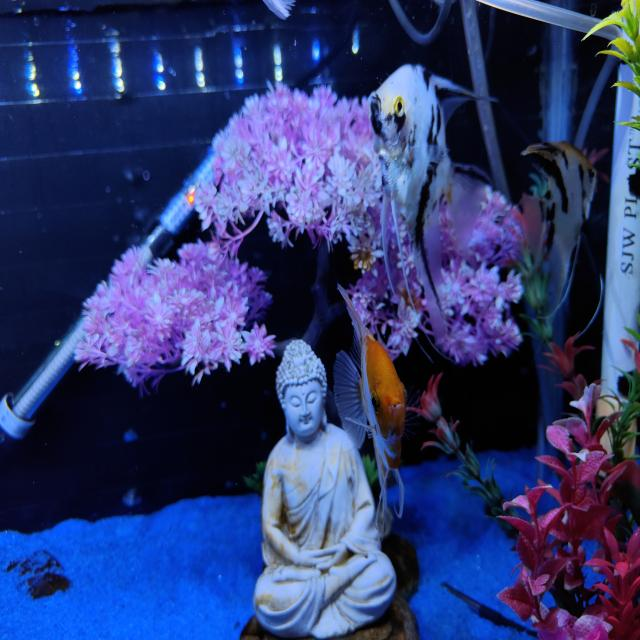Fish: (369, 65, 488, 342), (334, 285, 406, 523), (521, 142, 596, 313), (264, 0, 294, 19)
